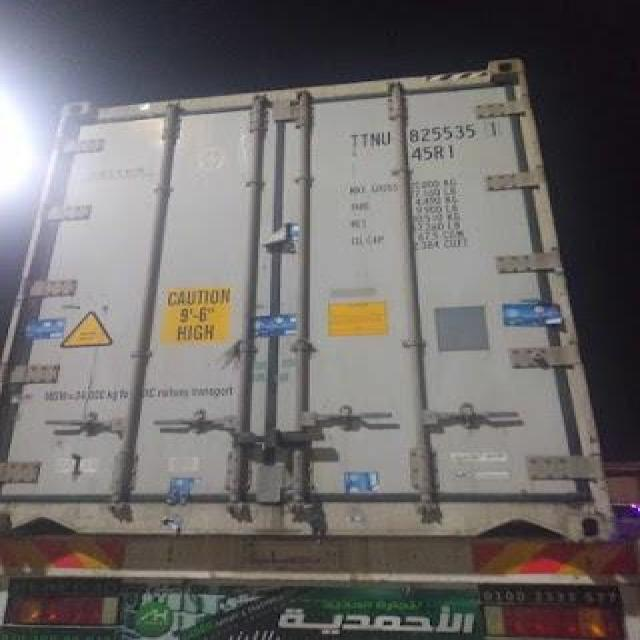ISO: (412, 142, 460, 162)
container_number: (354, 121, 508, 142)
